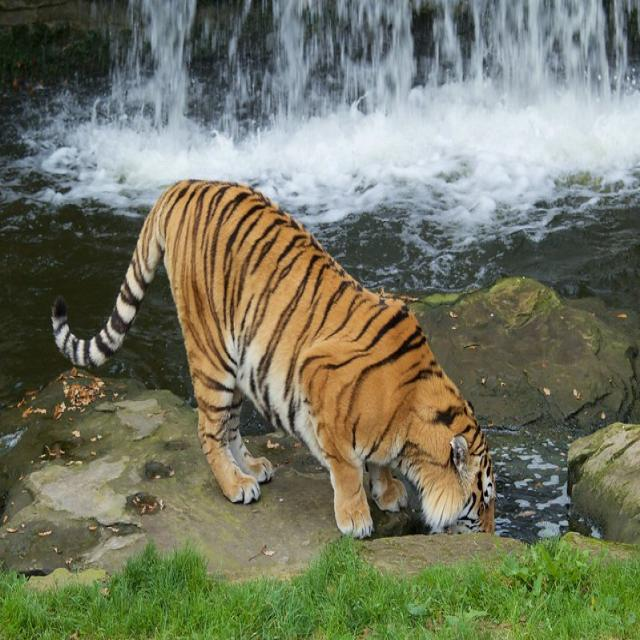Tiger: (51, 180, 496, 537)
